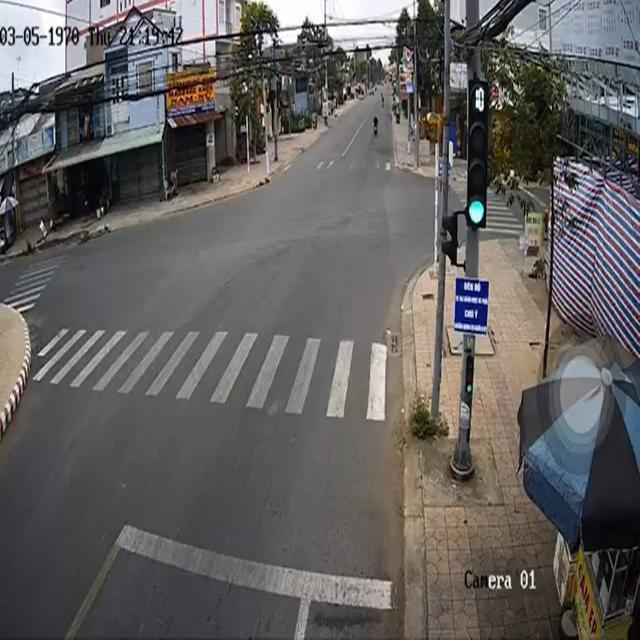Green: (466, 82, 489, 229)
